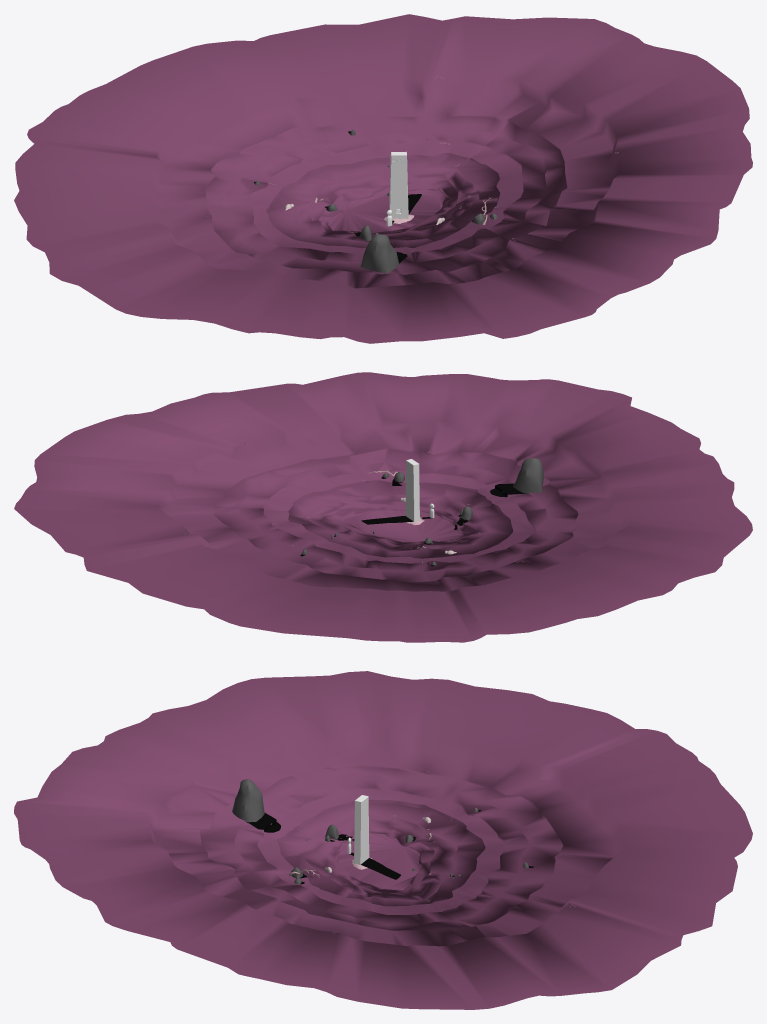
Rendered from desert.glb.
The picture shows the model from 3 angles, top to bottom: view 1: azimuth 30°, elevation 25°; view 2: azimuth 150°, elevation 25°; view 3: azimuth 270°, elevation 25°; orthographic projection. The views are drawn at different scales.
Parts seen in each view (by area): view 1: FLOOR, MONOLITH, ROCK2; view 2: FLOOR, ROCK2, MONOLITH, SHADOWS; view 3: FLOOR, ROCK2, MONOLITH.
Part boxes in pixels (left/top/right/bottom): FLOOR: left=14, top=14, right=752, bottom=343; MONOLITH: left=389, top=151, right=408, bottom=219; ROCK2: left=350, top=129, right=399, bottom=273; FLOOR: left=14, top=372, right=752, bottom=642; ROCK2: left=302, top=458, right=543, bottom=554; MONOLITH: left=405, top=459, right=419, bottom=521; SHADOWS: left=300, top=477, right=526, bottom=566; FLOOR: left=14, top=671, right=752, bottom=1009; ROCK2: left=232, top=779, right=528, bottom=876; MONOLITH: left=354, top=795, right=369, bottom=864.
Bounding box in the file's own units: 55.83 × 5 × 51.48.
9 materials, 3 textured.
